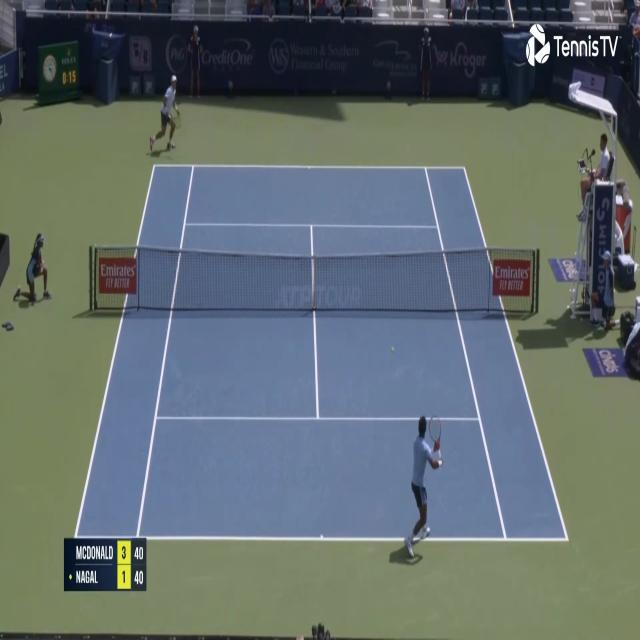tennis-player: (401, 411, 445, 564), (146, 70, 184, 160)
